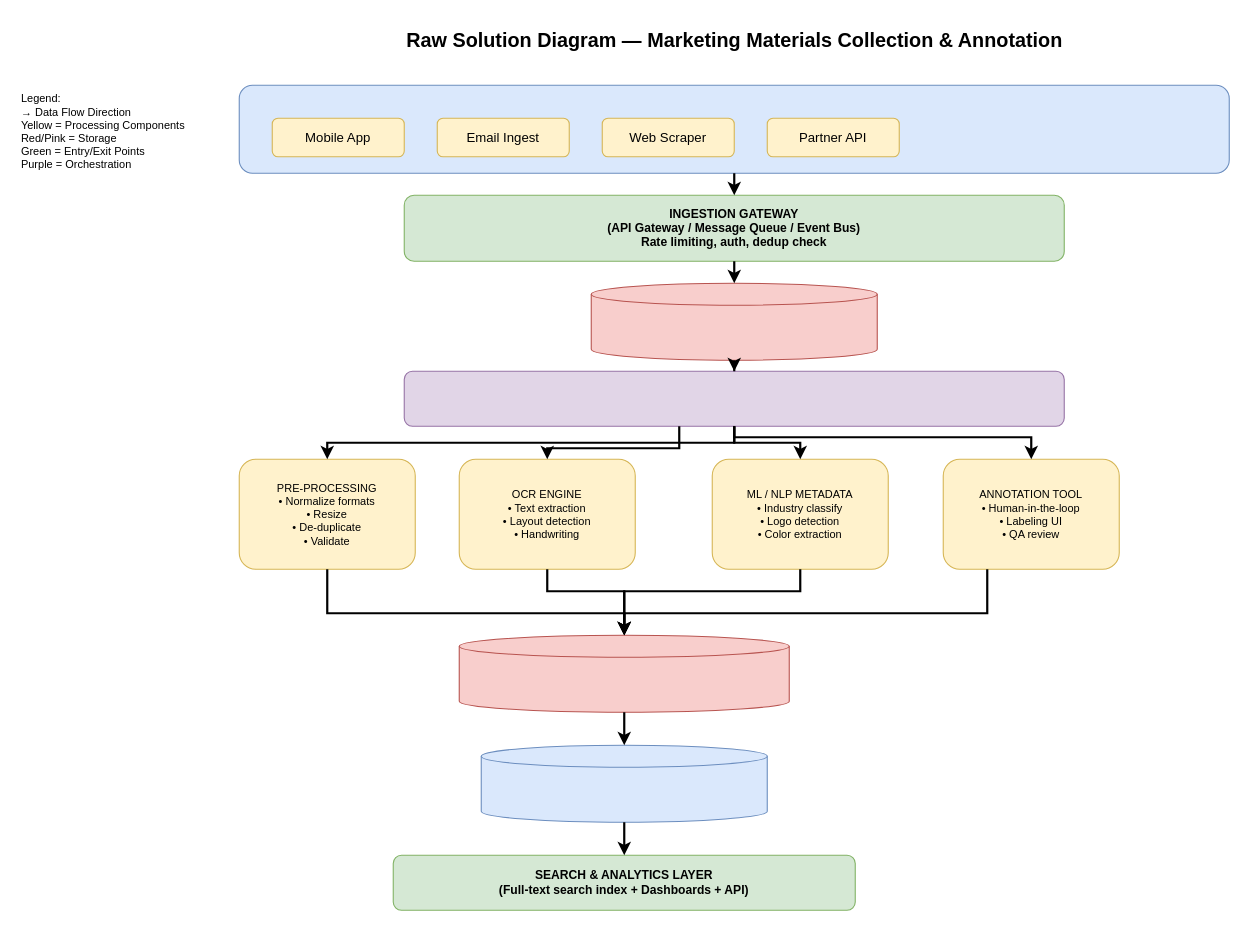
Some shapes in this 1249 by 930 pixel diagram are drawn without their labels. The box of each missing label's shape, as (x1, y1, x2, y2) in pixels:
DATA SOURCES: (238, 84, 1229, 173)
METADATA DATABASE (OCR text, labels, annotations, relationships): (480, 744, 767, 822)
ORCHESTRATOR / WORKFLOW ENGINE (Schedules and coordinates pipeline stages): (403, 370, 1064, 426)
PROCESSED OBJECT STORE (Processed images, thumbnails, derivatives): (458, 634, 789, 712)
RAW OBJECT STORE (Blob Storage — immutable raw files): (590, 282, 877, 360)
